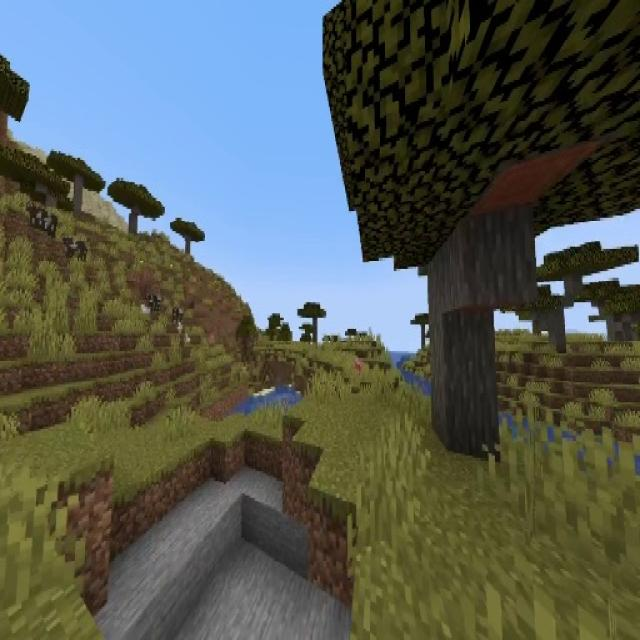acacia: (476, 227, 637, 351), (49, 152, 105, 218), (108, 179, 165, 236), (172, 219, 205, 255)
acacia_log: (429, 206, 533, 460), (550, 308, 566, 351), (74, 174, 83, 215), (129, 210, 137, 235)
